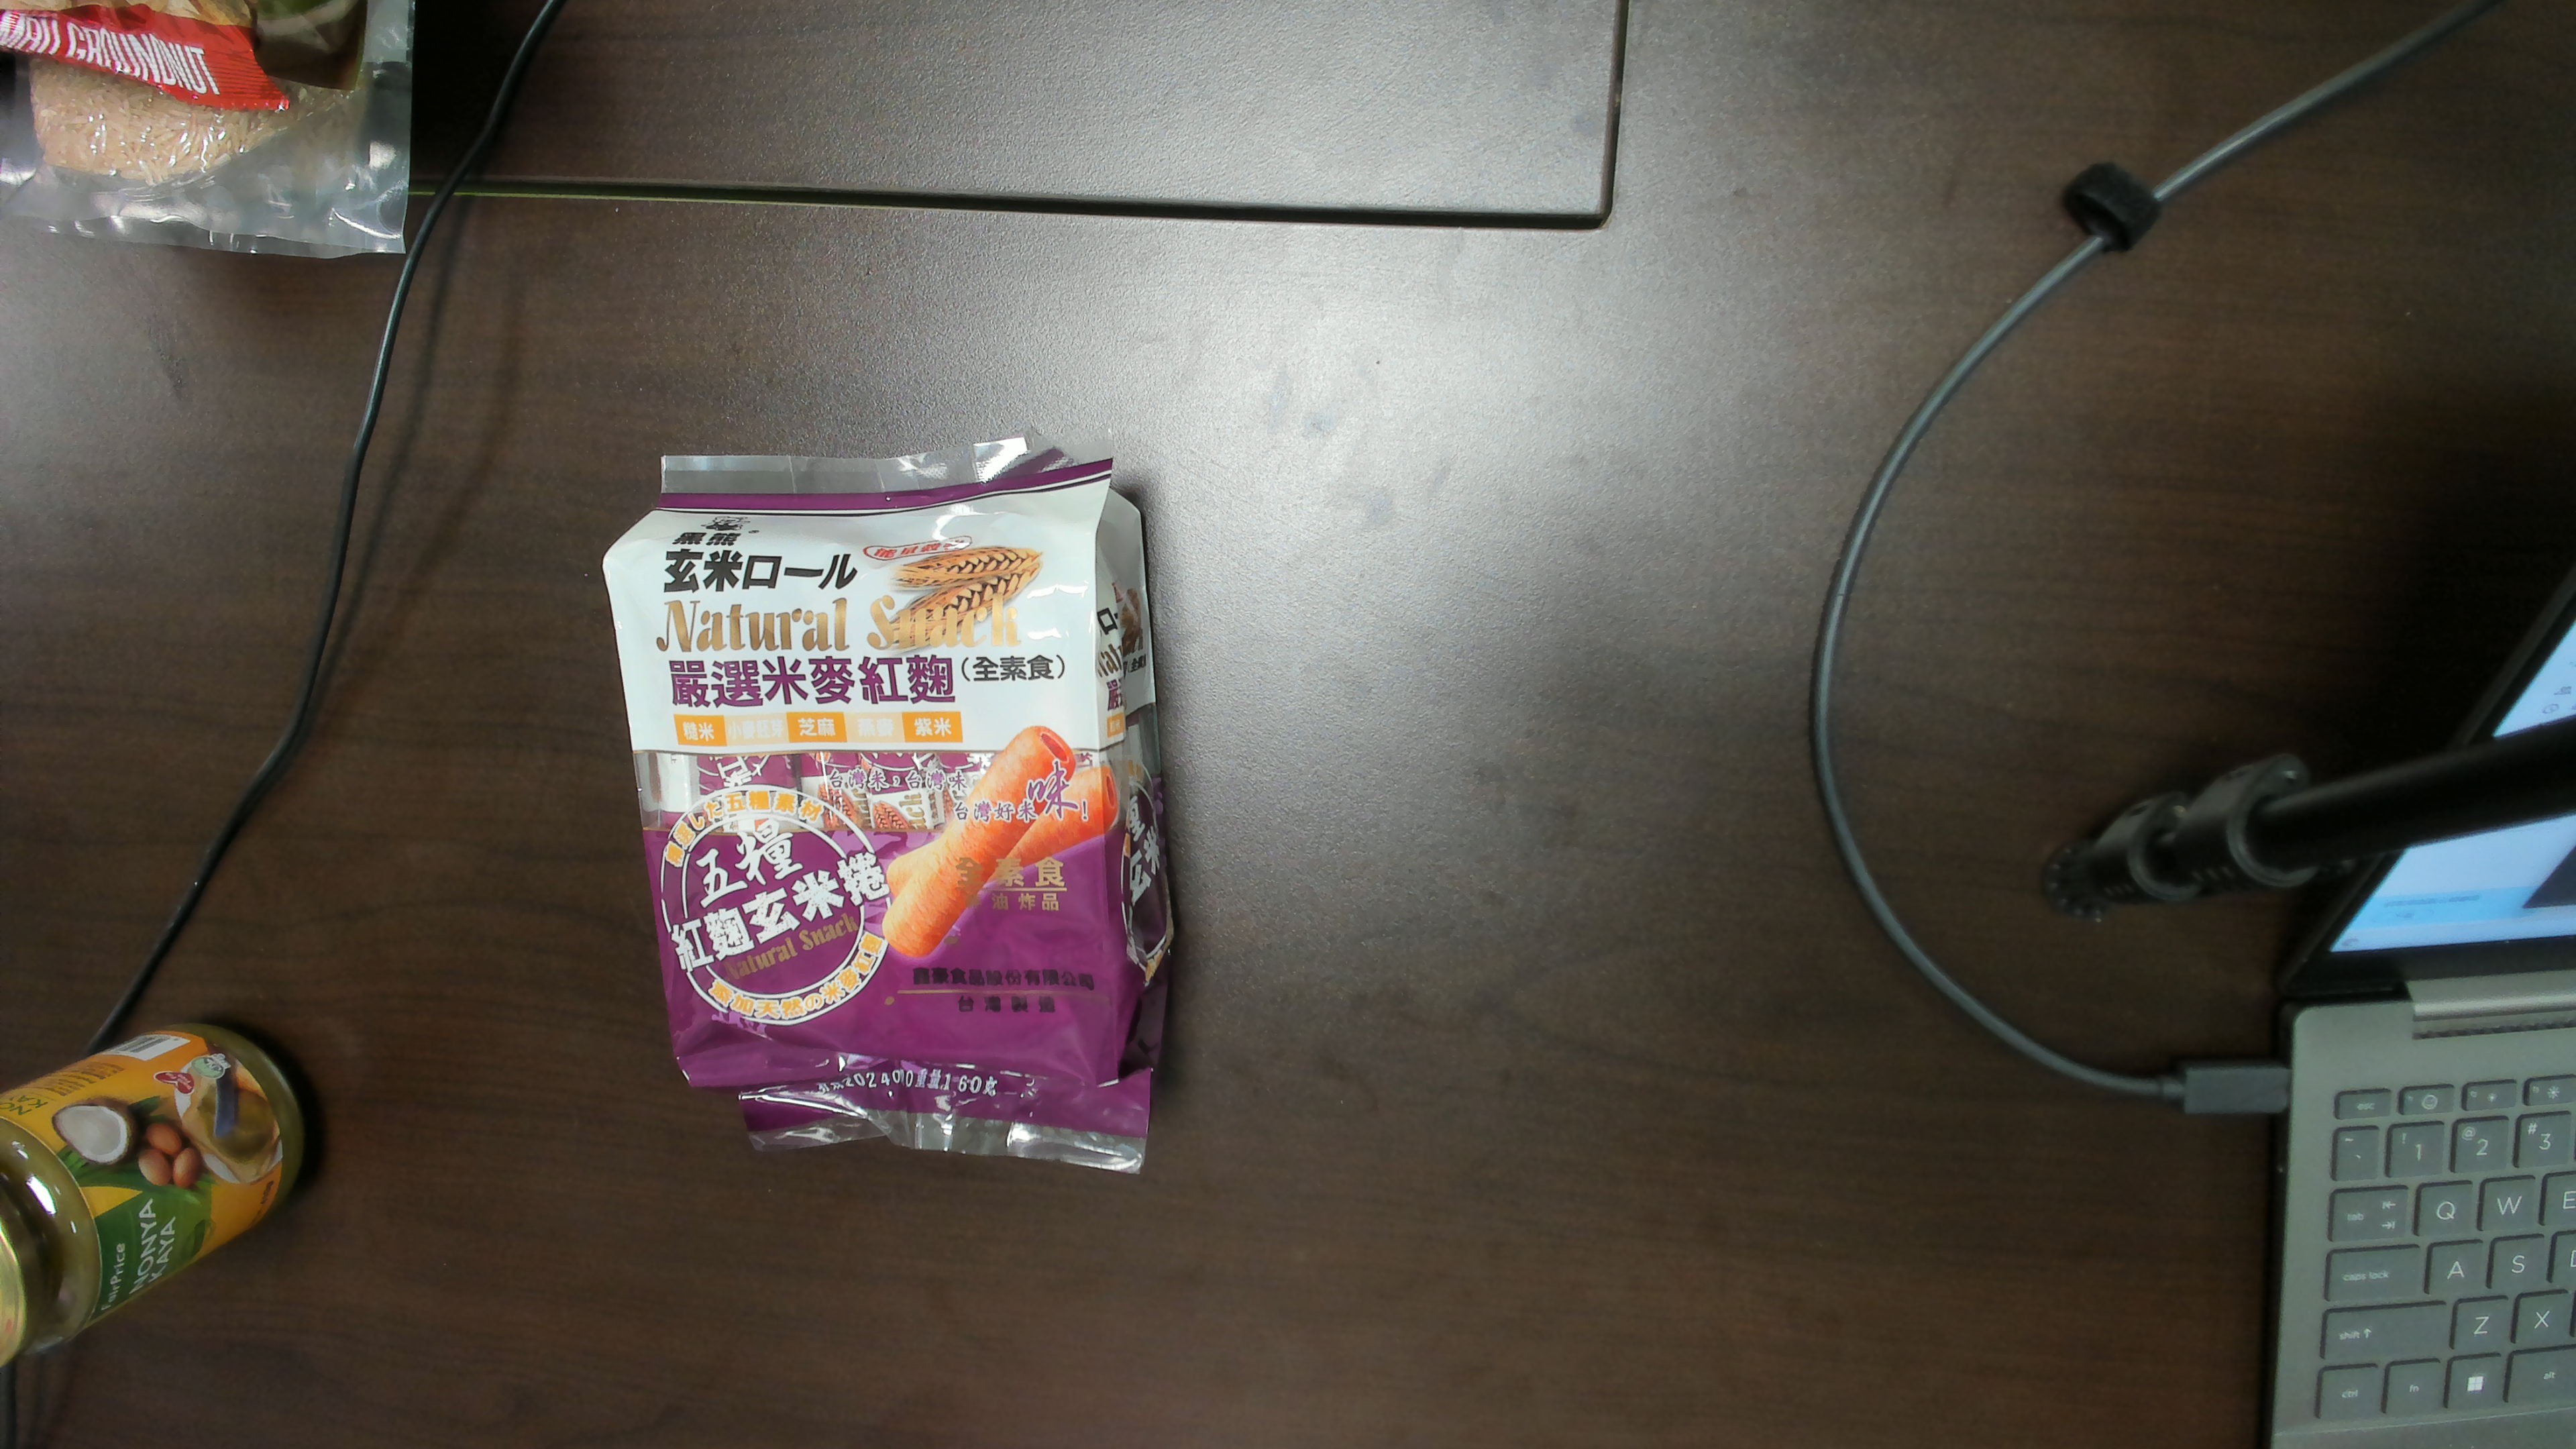BiscuitsCrackersCookies_100-199g_NonHalal_NonHealthy: (660, 533, 1108, 1021)
